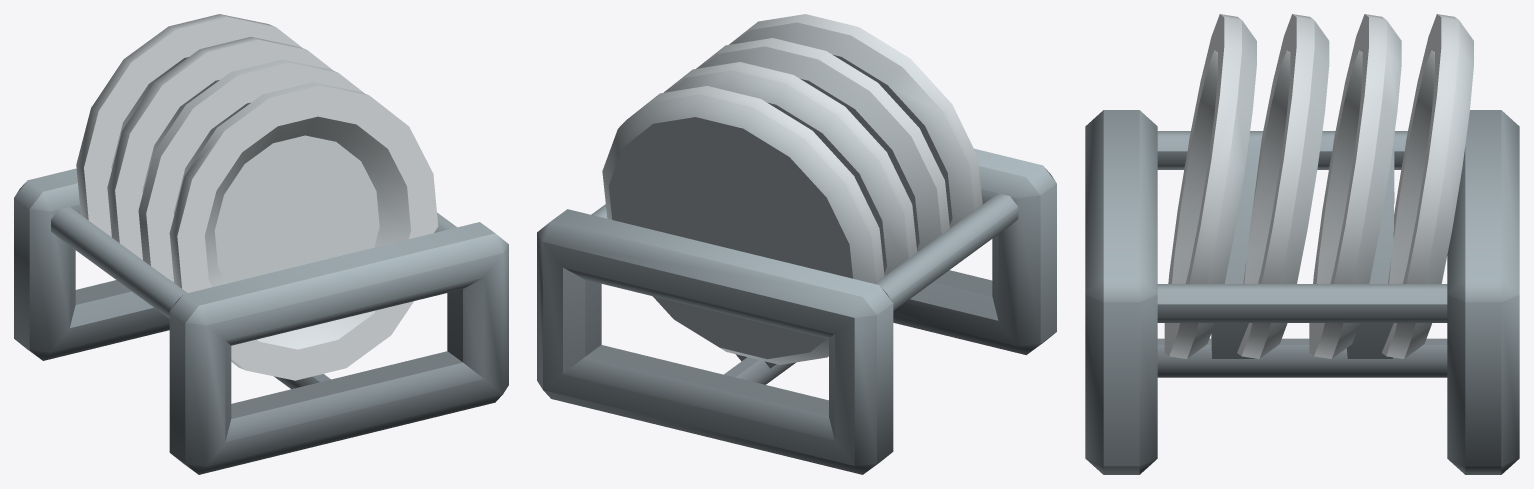
Rendered from dishrack_plates.glb.
The picture shows the model from 3 angles, left to right: view 1: azimuth 30°, elevation 25°; view 2: azimuth 150°, elevation 25°; view 3: azimuth 270°, elevation 25°; orthographic projection. The views are drawn at different scales.
Visible parts, largest first — view 1: dishrack_plates; view 2: dishrack_plates; view 3: dishrack_plates.
Part boxes in pixels (x1,y1,x2,y2): dishrack_plates: (14, 14, 508, 474); dishrack_plates: (537, 14, 1056, 474); dishrack_plates: (1085, 14, 1519, 474).
Bounding box in the file's own units: 1.2 × 1.1 × 1.2.
Materials: 1 (1 with a texture image).
